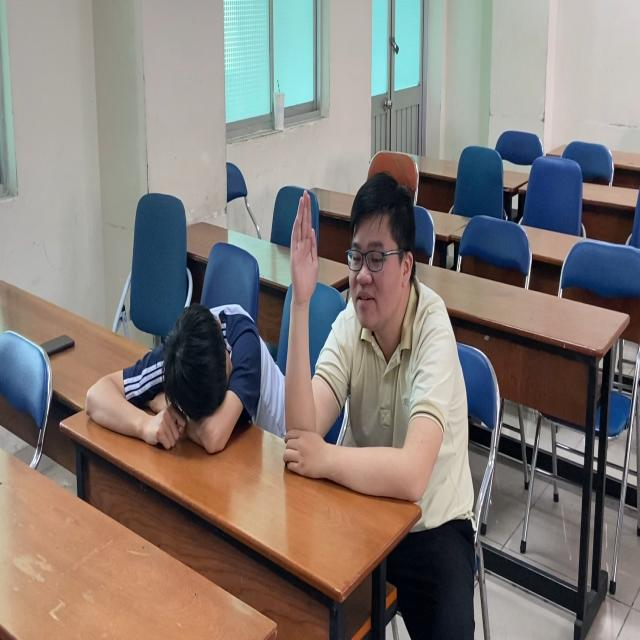raise_hand: (281, 167, 482, 517)
sleep: (91, 288, 285, 460)
